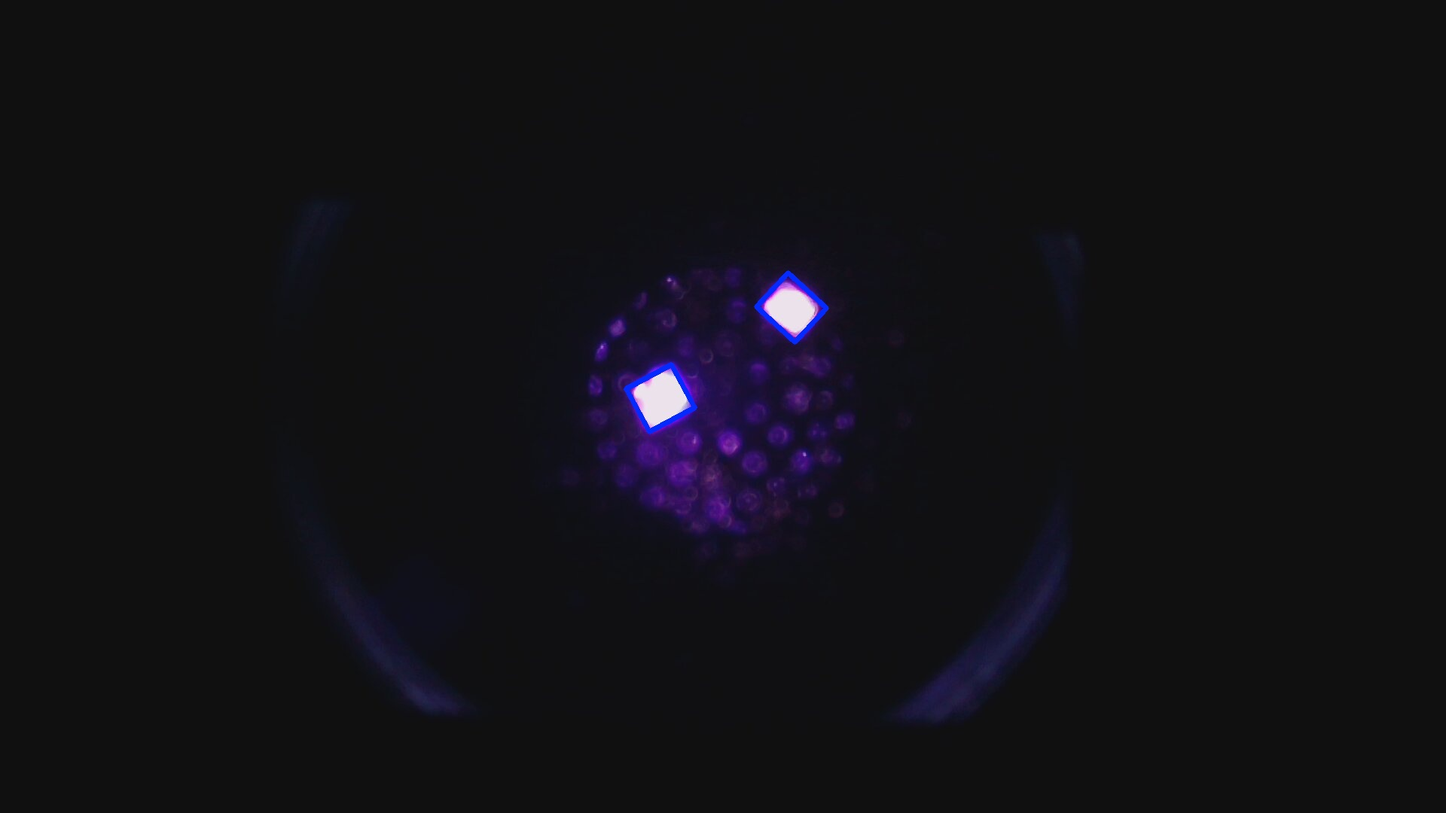plastic: (756, 273, 828, 344), (625, 363, 697, 433)
